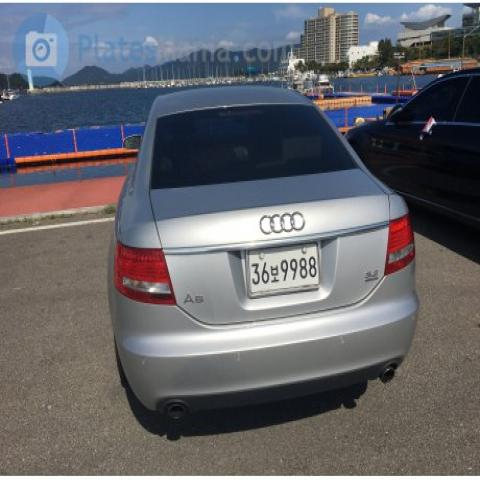LP: (238, 236, 331, 300)
